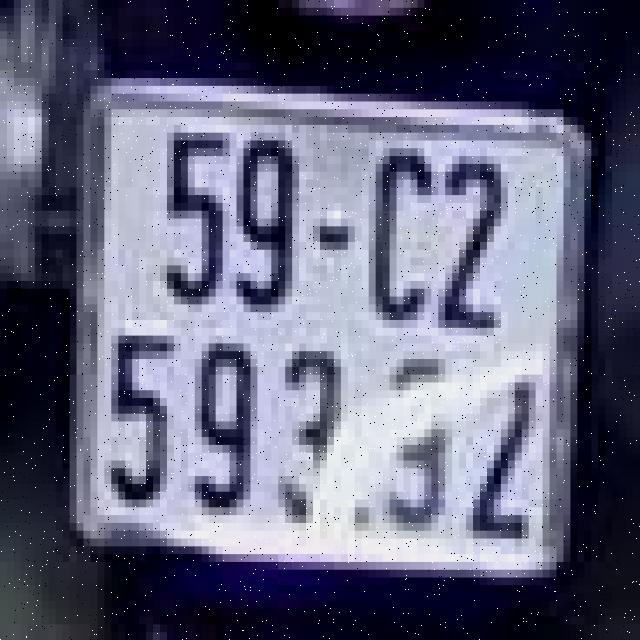2: (431, 148, 522, 336), (466, 355, 543, 550)
3: (365, 348, 456, 542), (275, 340, 351, 534)
5: (97, 320, 181, 523), (153, 113, 230, 308)
9: (188, 332, 264, 534), (240, 121, 303, 324)
C: (351, 129, 428, 324)
